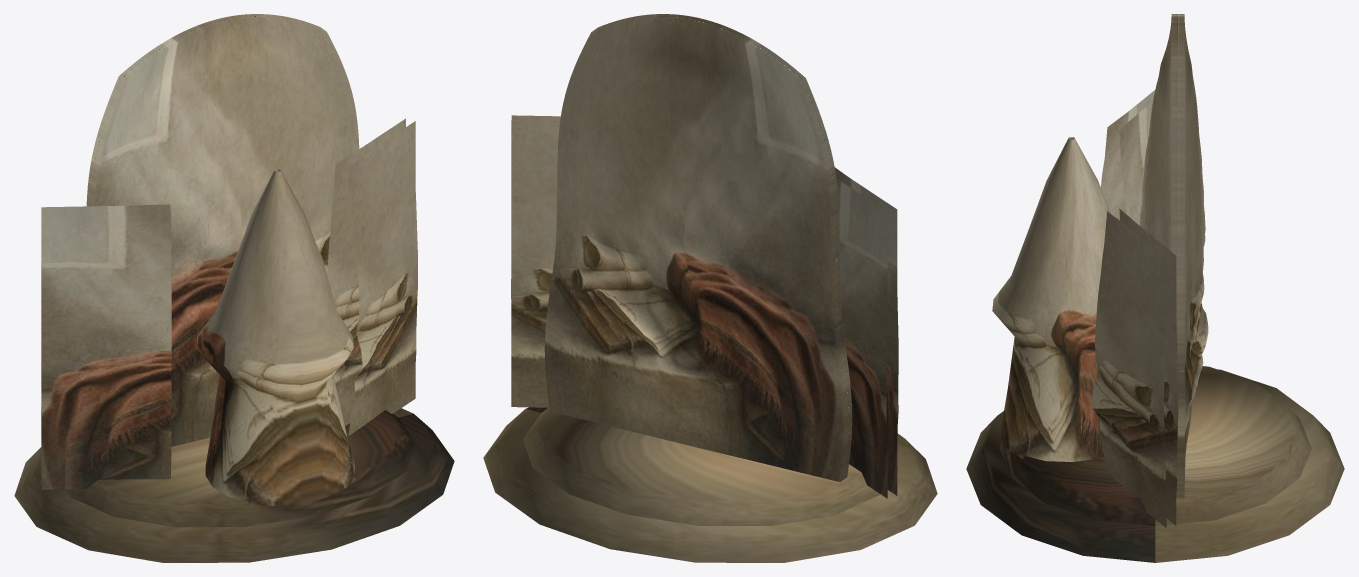
File: grace-mercy-and-peace-29.glb
3 renders of one model, left to right at view 1: azimuth 30°, elevation 25°; view 2: azimuth 150°, elevation 25°; view 3: azimuth 270°, elevation 25°, orthographic. The views are drawn at different scales.
Visible parts, largest first — view 1: PaintingSculptureMonument; view 2: PaintingSculptureMonument; view 3: PaintingSculptureMonument.
Boxes of the visible parts, x1,y1,x2,y2 form: PaintingSculptureMonument: (14, 14, 454, 562); PaintingSculptureMonument: (483, 14, 937, 562); PaintingSculptureMonument: (966, 14, 1344, 562).
Size of the model in its own units: 2.76 by 2.99 by 2.35.
1 material, 1 textured.
